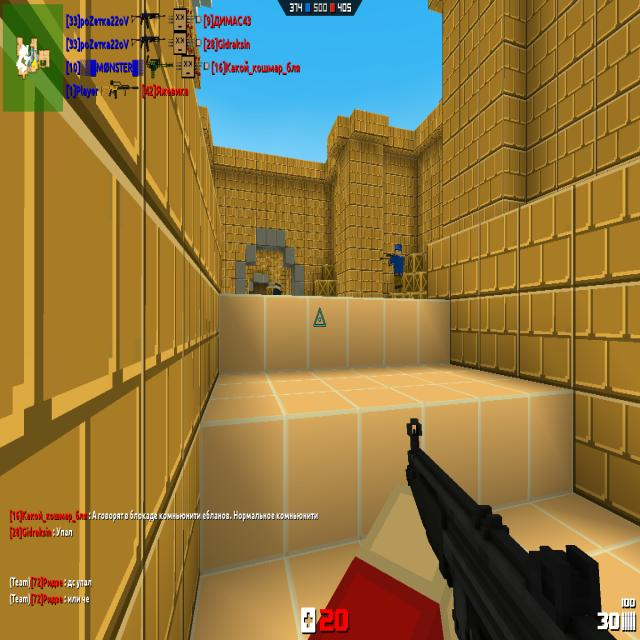enemy: (389, 244, 404, 289), (273, 281, 281, 295)
